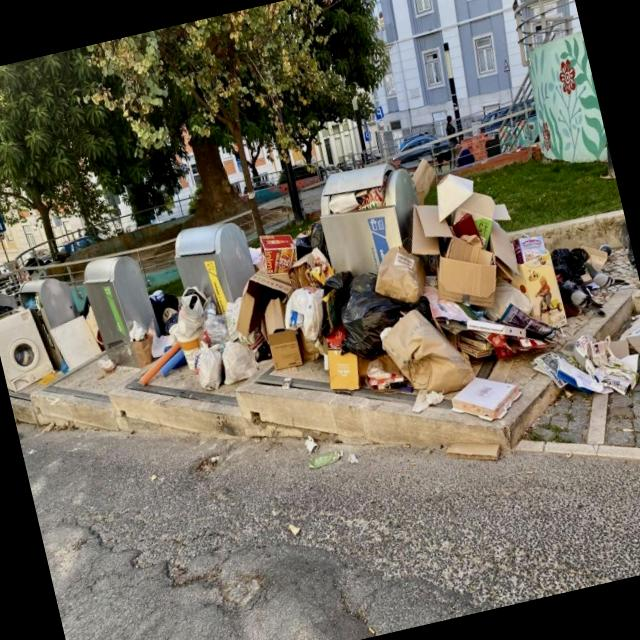garbage: (0, 102, 640, 519)
